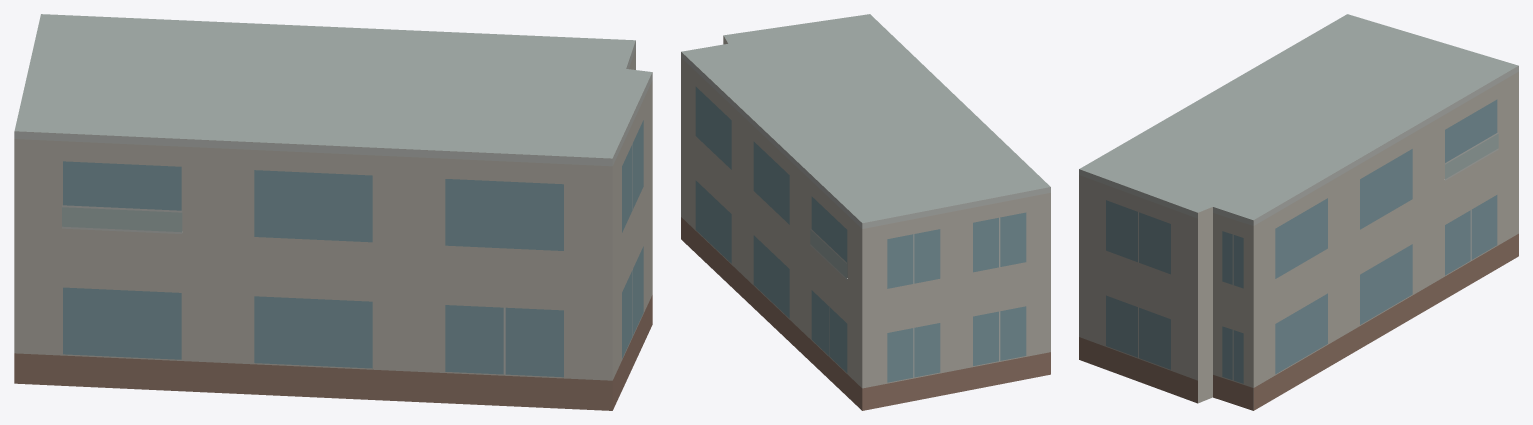
File: survey-upis-33041537.glb
3 renders of one model, left to right at view 1: azimuth 30°, elevation 25°; view 2: azimuth 150°, elevation 25°; view 3: azimuth 270°, elevation 25°, orthographic. The views are drawn at different scales.
Visible parts, largest first — view 1: survey-upis-33041537.tmp; view 2: survey-upis-33041537.tmp; view 3: survey-upis-33041537.tmp.
Boxes of the visible parts, <box> form: survey-upis-33041537.tmp: <box>14,14,652,410</box>; survey-upis-33041537.tmp: <box>681,14,1050,410</box>; survey-upis-33041537.tmp: <box>1079,14,1518,410</box>.
Size of the model in its own units: 18.34 by 7.9 by 16.52.
